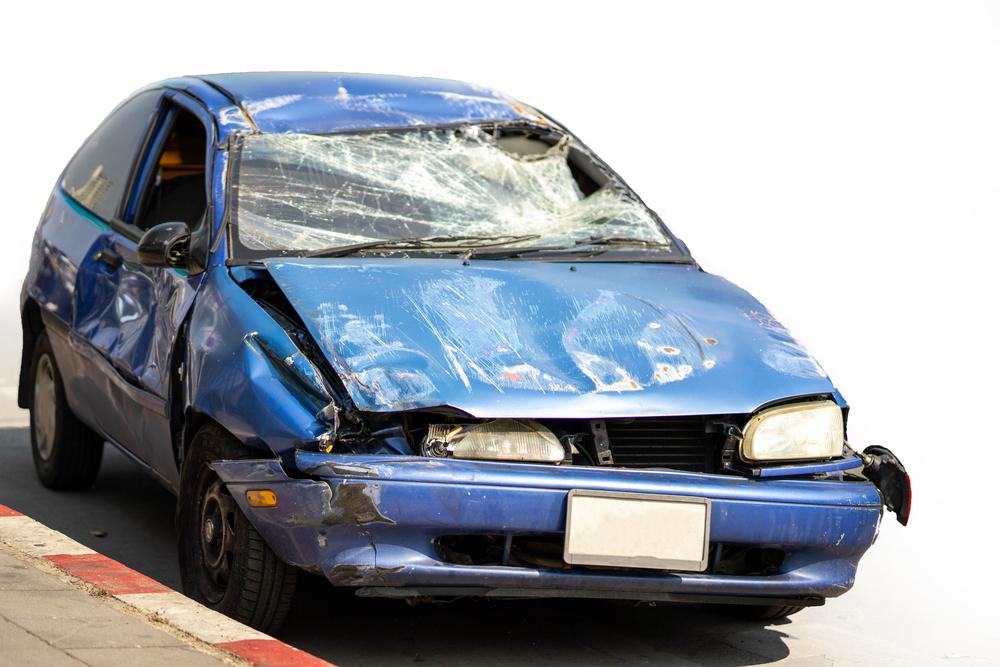crack: (275, 451, 334, 502), (362, 525, 380, 564)
dent: (70, 236, 180, 393), (248, 330, 333, 428)
glass shatter: (232, 120, 671, 252)
lamp broken: (415, 416, 566, 465)
scratch: (410, 264, 724, 399), (210, 88, 564, 136), (311, 297, 439, 410), (304, 460, 397, 527), (754, 308, 828, 385), (330, 561, 408, 585)
